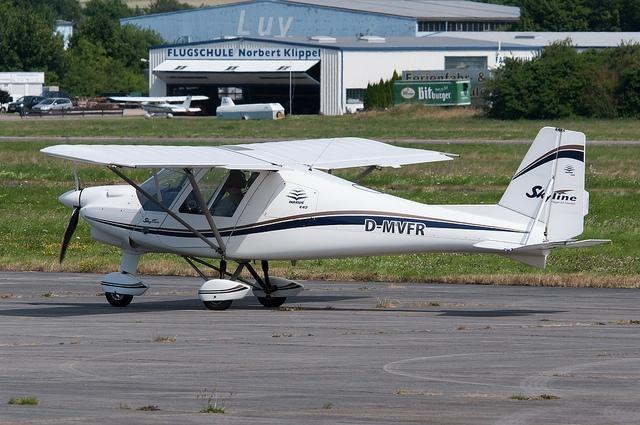car: (8, 96, 46, 118), (32, 98, 72, 116)
